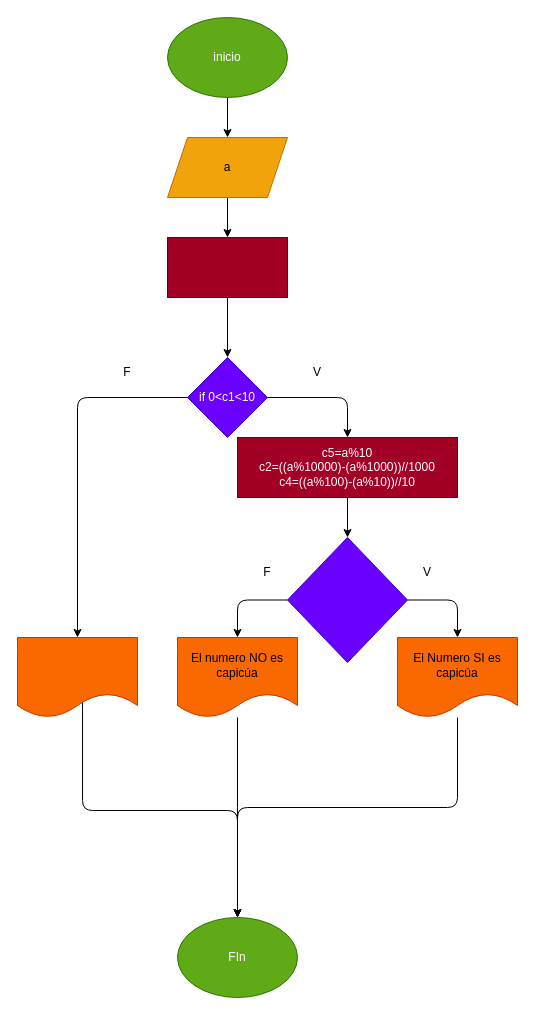
Image size: 535x1015. Some labels were removed from this diagram. Here are the shapes that lost their labels. From the top down, the box of each, then its label:
(166, 236, 288, 298): c1=a//10000
(286, 536, 408, 662): c1==c5 and c2==c4
(16, 636, 138, 718): El numero no tiene 5 cifras
